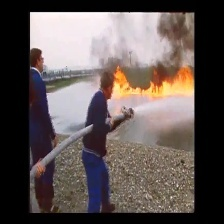fire: (106, 64, 193, 96)
